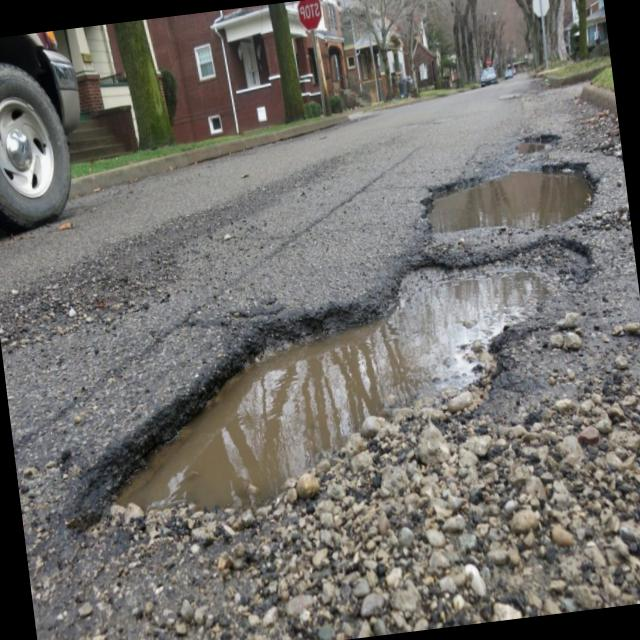bad-road: (38, 229, 622, 559), (414, 153, 603, 244), (514, 132, 562, 158)
